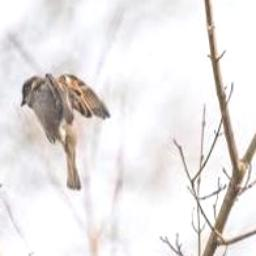Sparrow: (21, 73, 111, 190)
